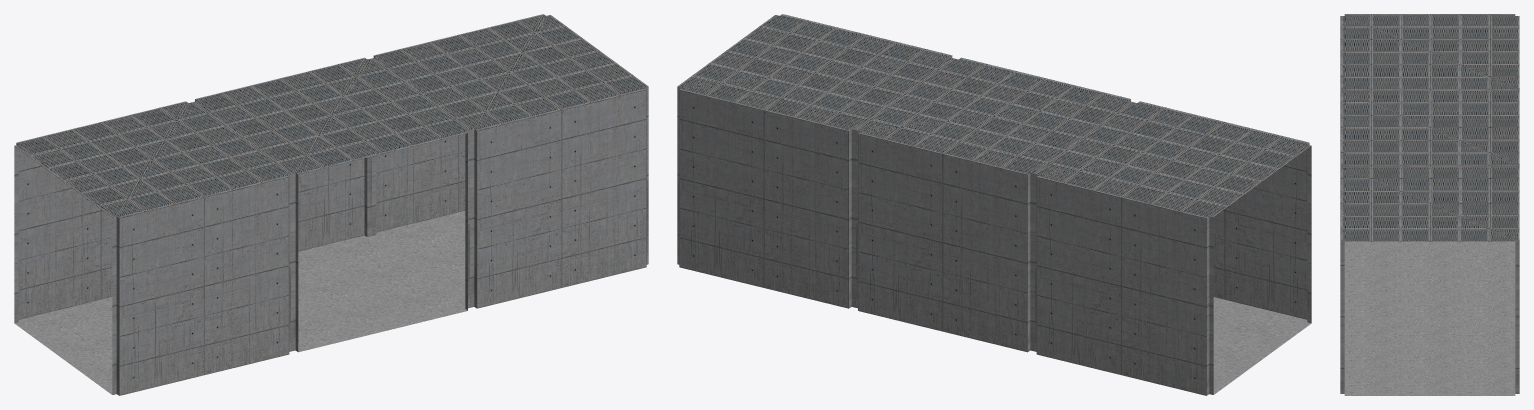
The model's file is HallLong.fbx.
3 renders of one model, left to right at view 1: azimuth 30°, elevation 25°; view 2: azimuth 150°, elevation 25°; view 3: azimuth 270°, elevation 25°, orthographic. The views are drawn at different scales.
Parts seen in each view (by area): view 1: Room.001; view 2: Room.001; view 3: Room.001.
Boxes of the visible parts, box(x1,y1,x2,y2) form: Room.001: box(14, 14, 648, 395); Room.001: box(677, 14, 1311, 395); Room.001: box(1340, 14, 1519, 395).
Bounding box in the file's own units: 600 × 190 × 200.
